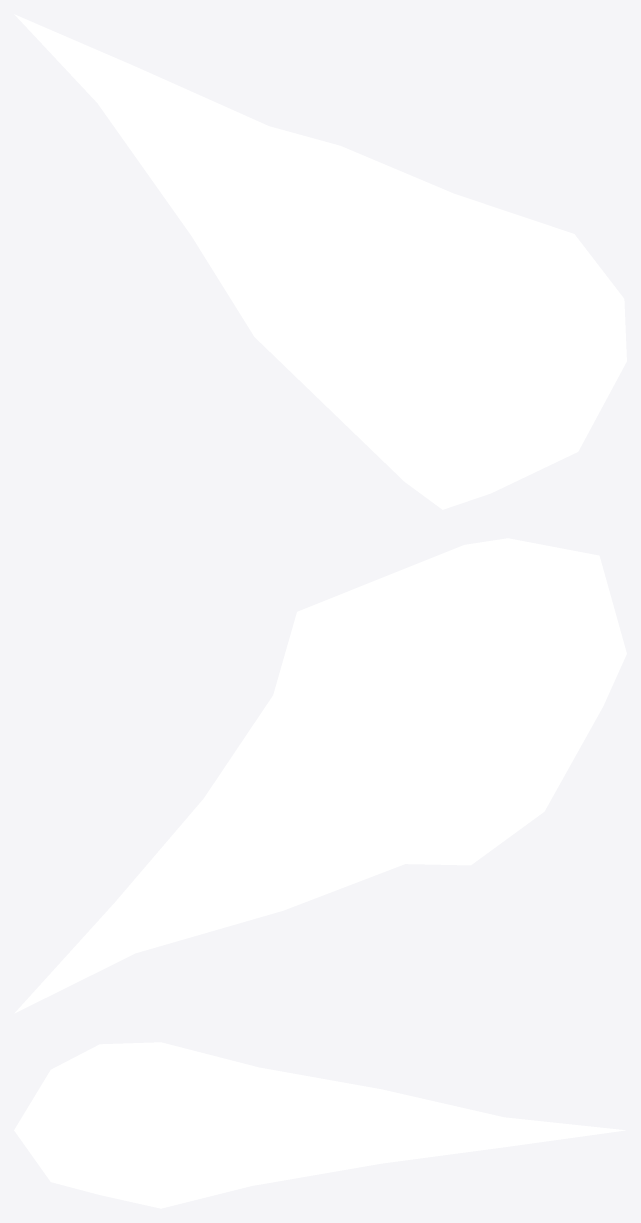
The model's file is ember_mote.glb.
3 views of the same model, one above another, from view 1: azimuth 30°, elevation 25°; view 2: azimuth 150°, elevation 25°; view 3: azimuth 270°, elevation 25° (orthographic). The views are drawn at different scales.
Visible parts, largest first — view 1: ember_mote; view 2: ember_mote; view 3: ember_mote.
Part boxes in pixels (x1,y1,x2,y2): ember_mote: (14, 14, 626, 509); ember_mote: (14, 538, 626, 1013); ember_mote: (14, 1042, 625, 1208).
Size of the model in its own units: 0.0858 by 0.0884 by 0.32.
Materials: 1 (1 with a texture image).
